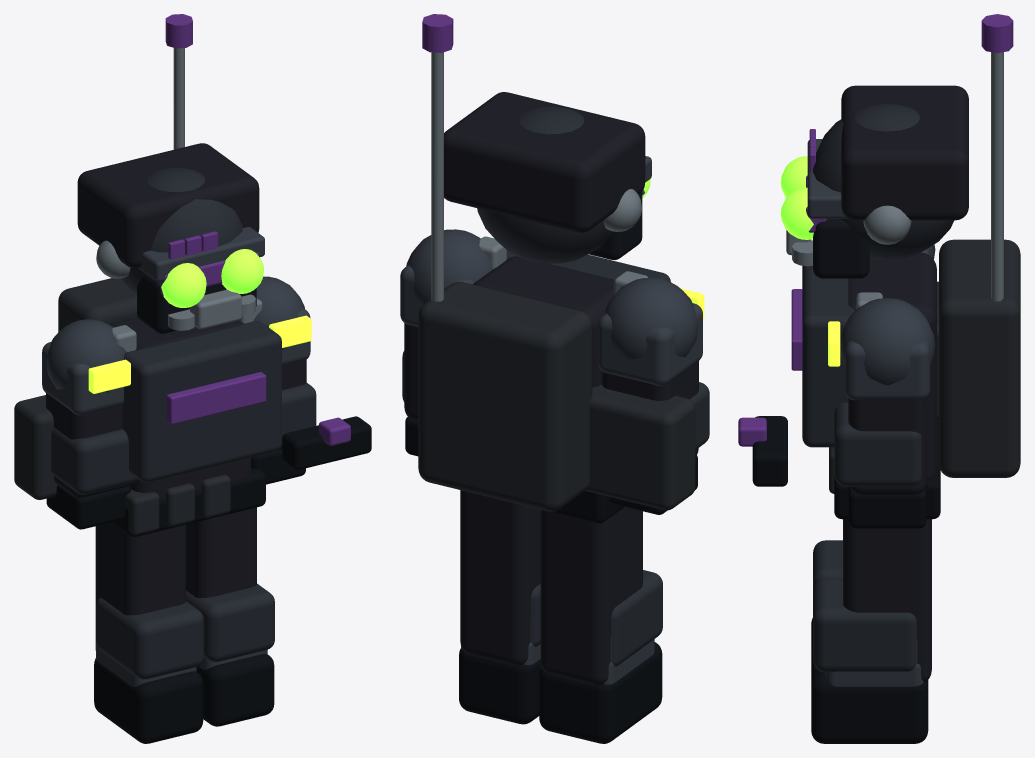
File: recon_l03.glb
3 views of the same model, side by side, from view 1: azimuth 30°, elevation 25°; view 2: azimuth 150°, elevation 25°; view 3: azimuth 270°, elevation 25° (orthographic). The views are drawn at different scales.
Parts seen in each view (by area): view 1: segmented_vest, trouser (×2), hood, shaped_knee_guard (×2), boot (×2), forearm_plate (×2), shoulder_joint (×2), rounded_helmet, map_satchel, glove (×2), dzn_chest_flash, body (+19 smaller); view 2: field_pack, trouser (×2), hood, boot (×2), map_satchel, shoulder_joint (×2), rounded_helmet, body, shoulder_plate (×2), shaped_knee_guard (×2), sleeve (×2), signal_mast (+9 smaller); view 3: field_pack, hood, trouser, shaped_knee_guard (×2), boot, segmented_vest, shoulder_joint, forearm_plate, rounded_helmet, body, sleeve, signal_mast (+15 smaller).
Part boxes in pixels (x1,y1,x2,y2): segmented_vest: [122, 321, 281, 482]; trouser (×2): [95, 507, 256, 650]; hood: [77, 143, 259, 268]; shaped_knee_guard (×2): [96, 583, 274, 679]; boot (×2): [94, 654, 274, 743]; forearm_plate (×2): [51, 383, 316, 494]; shoulder_joint (×2): [46, 276, 304, 392]; rounded_helmet: [121, 167, 242, 294]; map_satchel: [14, 395, 57, 499]; glove (×2): [46, 449, 305, 529]; dzn_chest_flash: [166, 372, 266, 424]; body: [109, 317, 251, 498]; field_pack: [418, 282, 592, 511]; trouser (×2): [460, 490, 642, 685]; hood: [444, 92, 645, 232]; boot (×2): [459, 642, 662, 743]; map_satchel: [585, 384, 695, 510]; shoulder_joint (×2): [406, 229, 698, 360]; rounded_helmet: [477, 106, 613, 263]; body: [473, 256, 614, 387]; shoulder_plate (×2): [400, 265, 702, 385]; shaped_knee_guard (×2): [530, 570, 662, 666]; sleeve (×2): [404, 323, 698, 456]; signal_mast: [431, 52, 443, 301]; field_pack: [939, 239, 1020, 477]; hood: [841, 85, 968, 220]; trouser: [843, 519, 931, 681]; shaped_knee_guard (×2): [813, 540, 916, 672]; boot: [811, 657, 928, 743]; segmented_vest: [802, 265, 854, 447]; shoulder_joint: [840, 298, 935, 385]; forearm_plate: [834, 402, 921, 486]; rounded_helmet: [812, 104, 954, 260]; body: [848, 252, 936, 476]; sleeve: [848, 398, 926, 495]; signal_mast: [991, 52, 1003, 301].
Bounding box in the file's own units: 0.9975 × 2.23 × 0.795.
